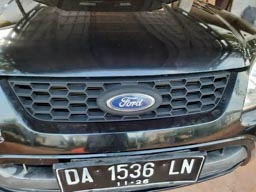plat: (55, 152, 203, 192)
